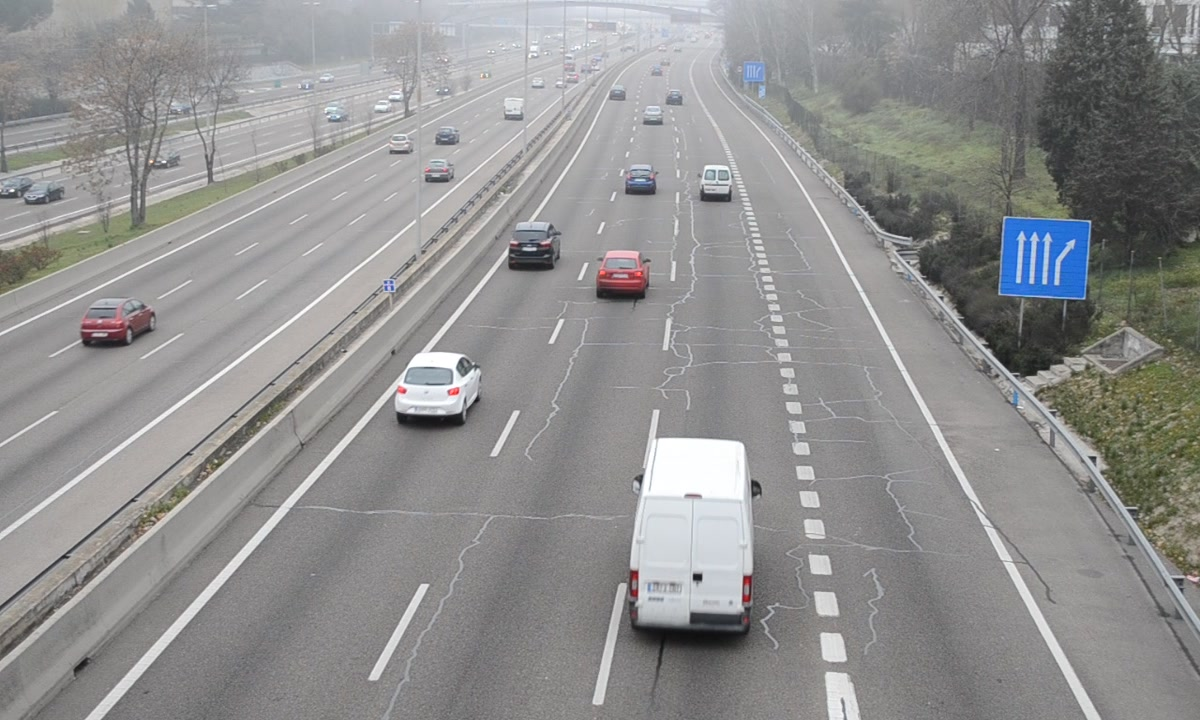car: (394, 353, 481, 417), (597, 249, 647, 298), (509, 221, 558, 268), (624, 164, 656, 195)
van: (626, 437, 754, 637), (700, 164, 734, 202)
